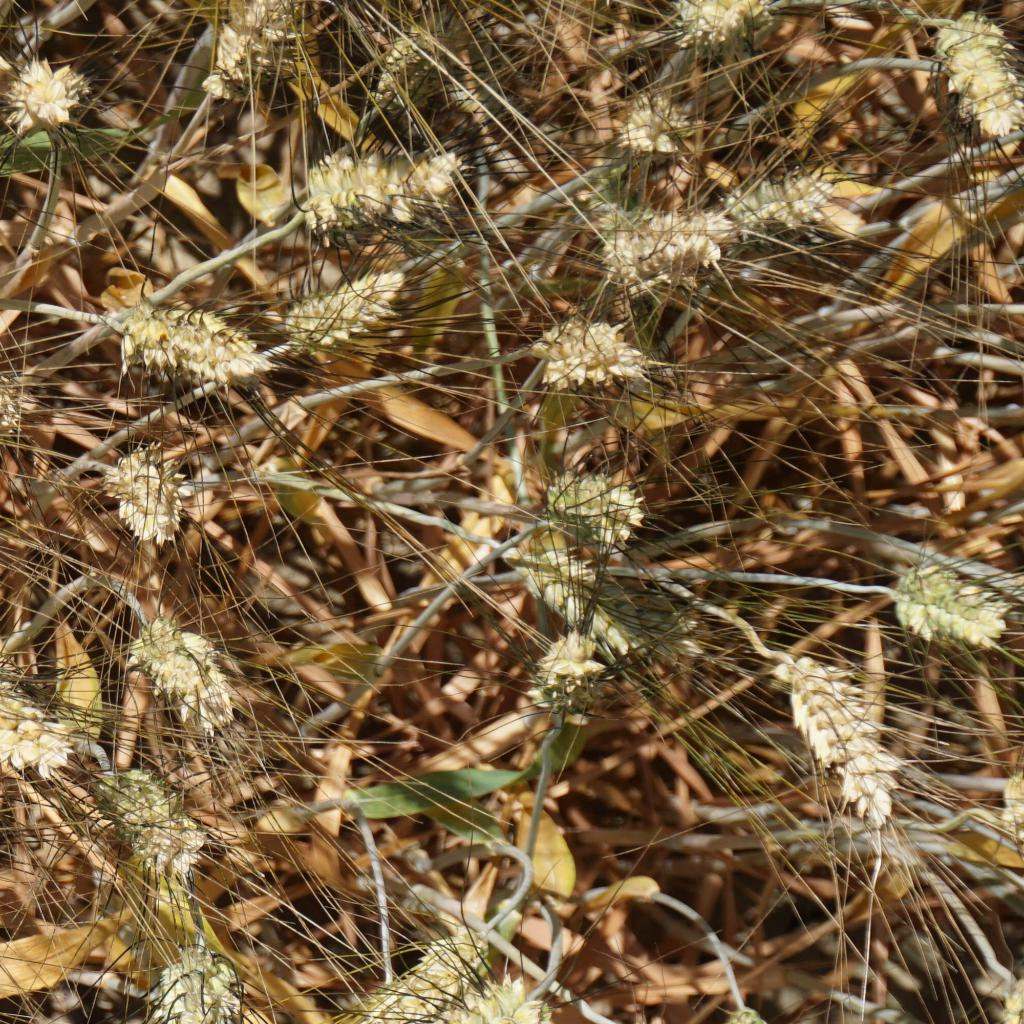0-0: (752, 630, 900, 833), (130, 598, 244, 736), (295, 134, 458, 228), (106, 295, 262, 388), (518, 527, 628, 644), (357, 9, 470, 119), (927, 7, 1019, 135), (104, 763, 214, 866), (880, 570, 1012, 655), (0, 633, 70, 785), (211, 0, 309, 102), (366, 937, 478, 1024), (112, 442, 197, 555), (592, 190, 712, 269), (527, 305, 637, 390), (527, 620, 610, 712), (143, 951, 246, 1024), (273, 277, 395, 338), (537, 454, 635, 529), (2, 51, 84, 135), (722, 167, 826, 224), (618, 84, 698, 155), (417, 988, 539, 1024), (691, 0, 787, 43), (0, 348, 37, 456), (710, 994, 789, 1024)
